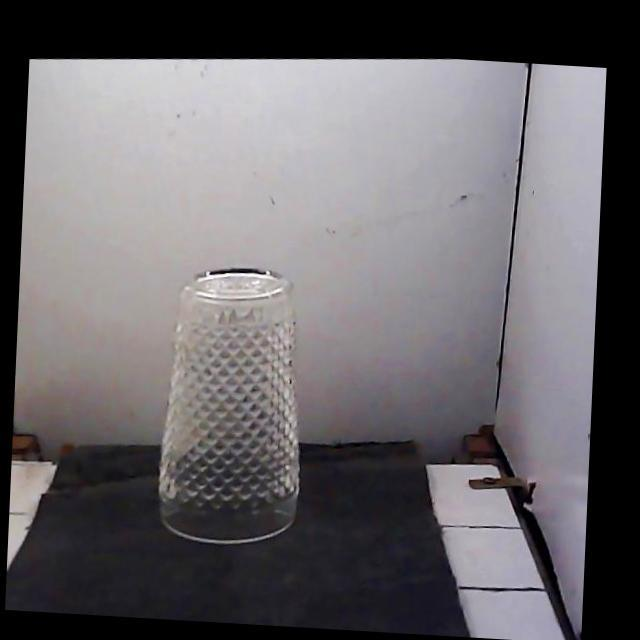vidro: (160, 269, 299, 544)
